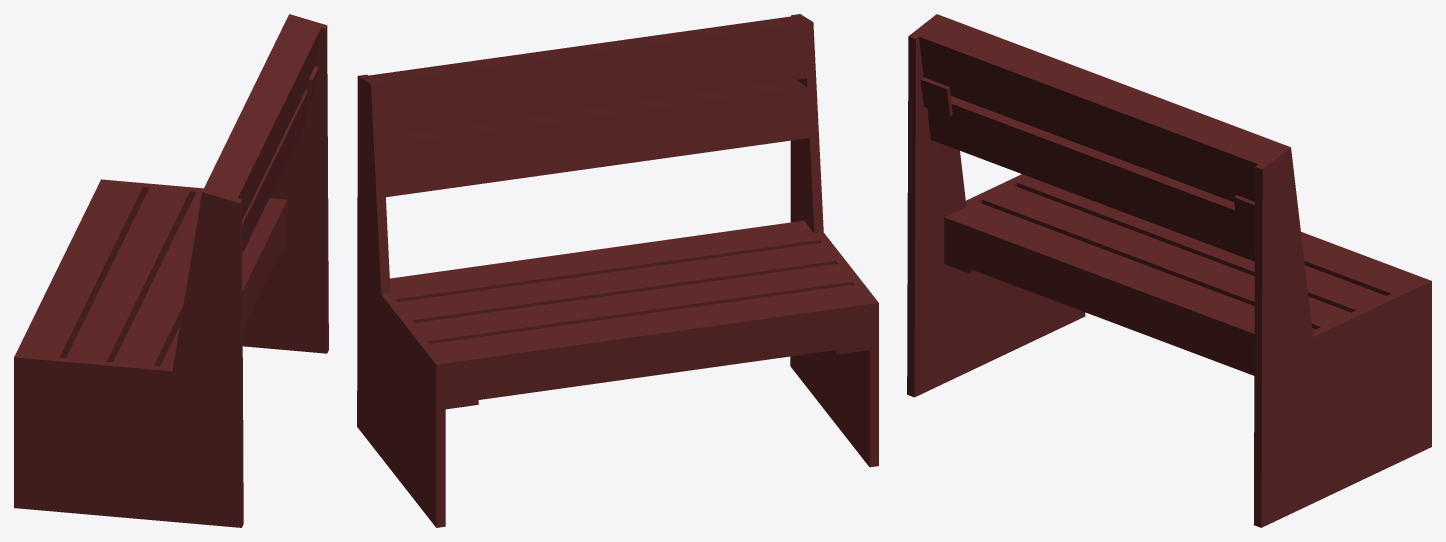
The model's file is Banc.fbx.
The picture shows the model from 3 angles, left to right: view 1: azimuth 30°, elevation 25°; view 2: azimuth 150°, elevation 25°; view 3: azimuth 270°, elevation 25°; orthographic projection. The views are drawn at different scales.
Parts seen in each view (by area): view 1: Cube.044; view 2: Cube.044; view 3: Cube.044.
Part boxes in pixels (x1=…): Cube.044: x1=14, y1=14, x2=328, y2=527; Cube.044: x1=357, y1=14, x2=878, y2=527; Cube.044: x1=907, y1=14, x2=1431, y2=527.
Size of the model in its own units: 474 by 379 by 491.
